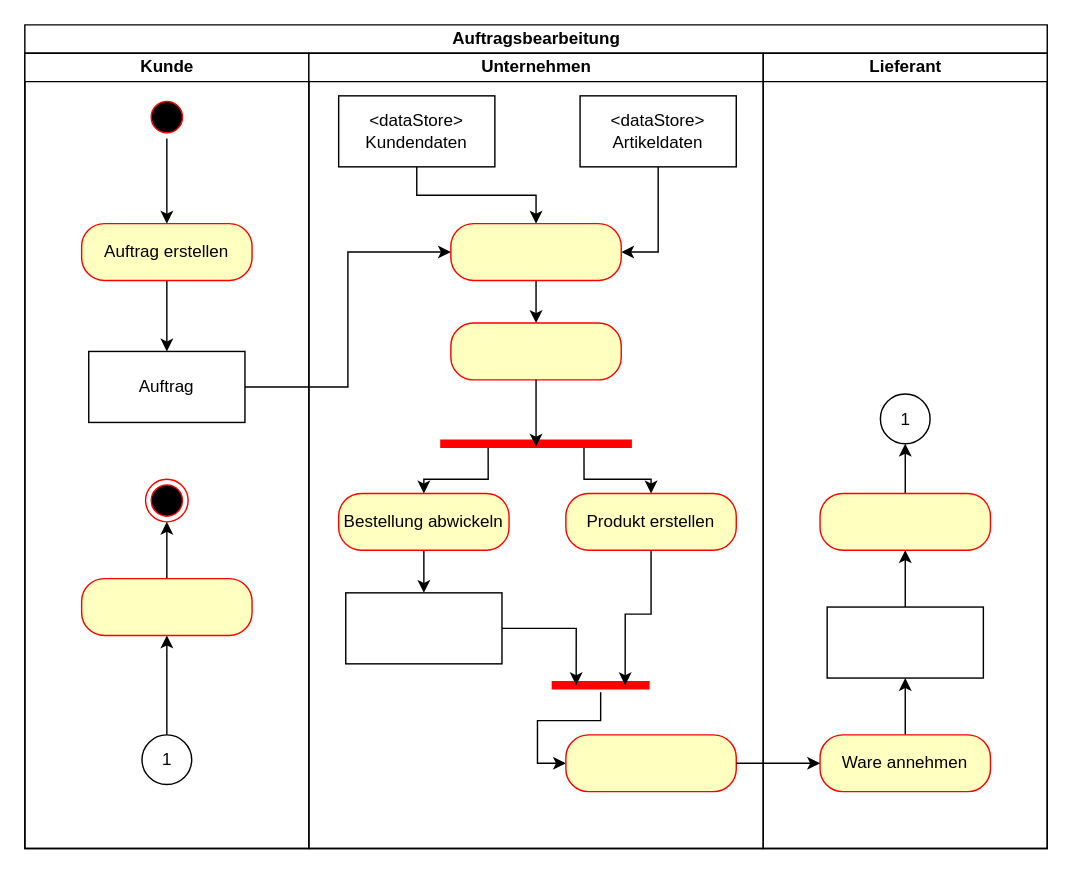
Image size: 1072x873. Some labels were removed from this diagram. Each missing label, with the centre of its shape:
Auftrag annehmen: the point at 535,351
Auftrag bearbeiten: the point at 535,251
Bestellung: the point at 423,627
Ware: the point at 904,642
Ware ausliefern: the point at 650,762
Ware erhalten: the point at 166,606
Ware liefern: the point at 904,521
